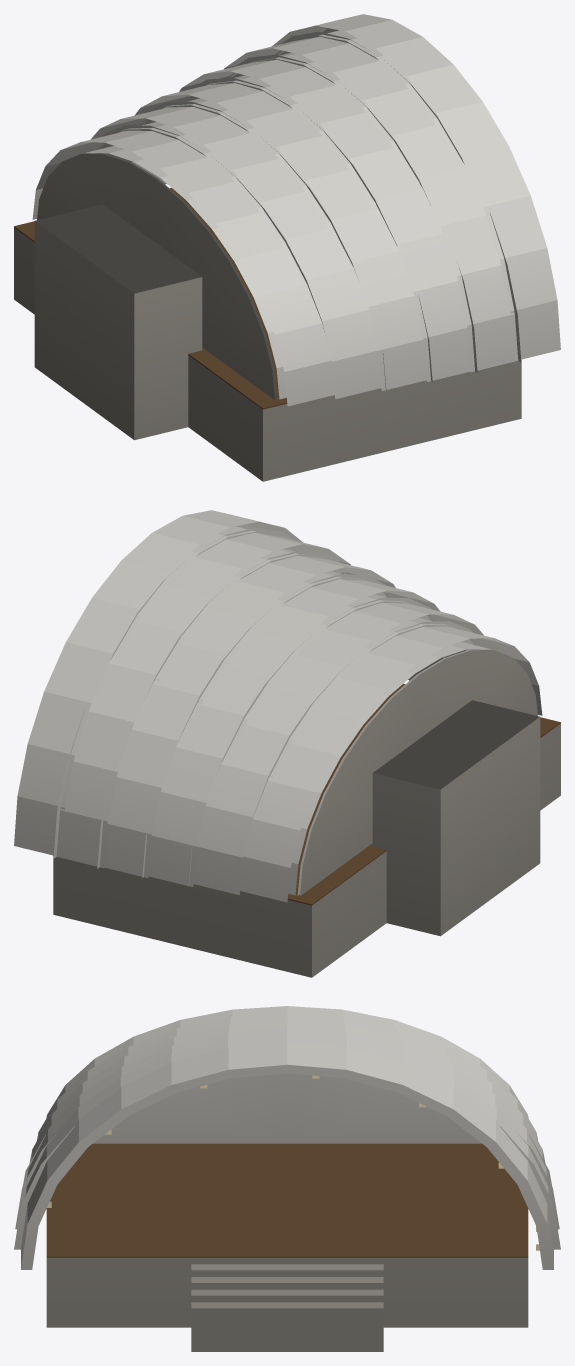
File: bandshell.glb
The picture shows the model from 3 angles, top to bottom: view 1: azimuth 30°, elevation 25°; view 2: azimuth 150°, elevation 25°; view 3: azimuth 270°, elevation 25°; orthographic projection. The views are drawn at different scales.
Visible parts, largest first — view 1: bandshell_lod0; view 2: bandshell_lod0; view 3: bandshell_lod0.
Part boxes in pixels (left/top/right/bottom): bandshell_lod0: left=14, top=14, right=560, bottom=481; bandshell_lod0: left=14, top=510, right=560, bottom=977; bandshell_lod0: left=14, top=1006, right=560, bottom=1351.
Size of what is drawn, in the model's own units: 16.9 by 12.6 by 22.71.
